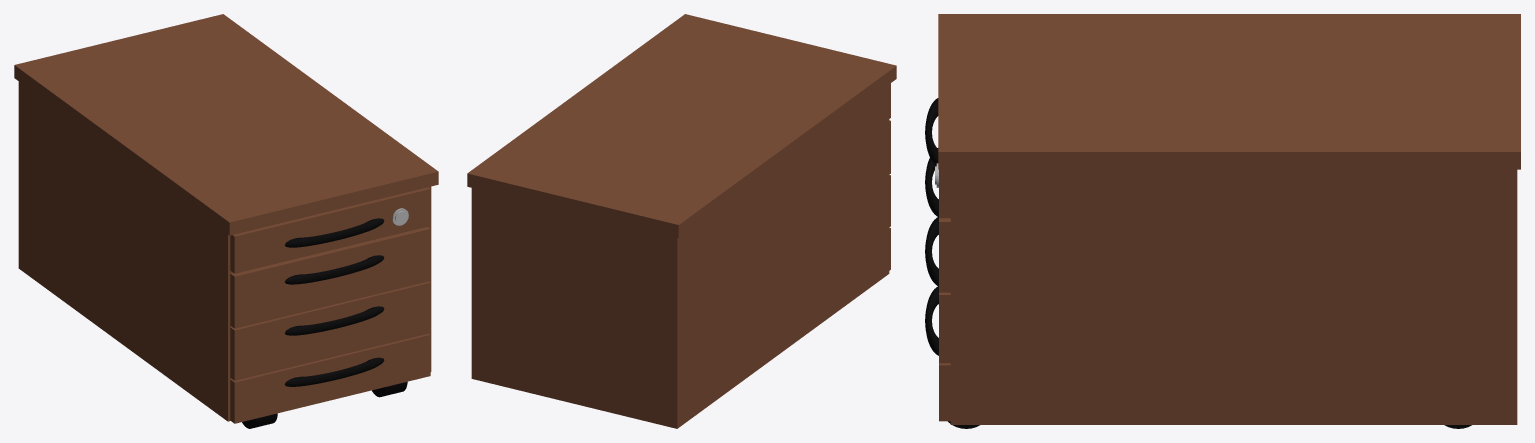
The model's file is Rollischrank.fbx.
3 views of the same model, side by side, from view 1: azimuth 30°, elevation 25°; view 2: azimuth 150°, elevation 25°; view 3: azimuth 270°, elevation 25° (orthographic). The views are drawn at different scales.
Parts seen in each view (by area): view 1: RolliSchrank; view 2: RolliSchrank; view 3: RolliSchrank.
Part boxes in pixels (x1,y1,x2,y2): RolliSchrank: [14, 14, 438, 428]; RolliSchrank: [467, 14, 896, 428]; RolliSchrank: [925, 14, 1520, 428].
Bounding box in the file's own units: 41.67 × 41.78 × 76.01.
